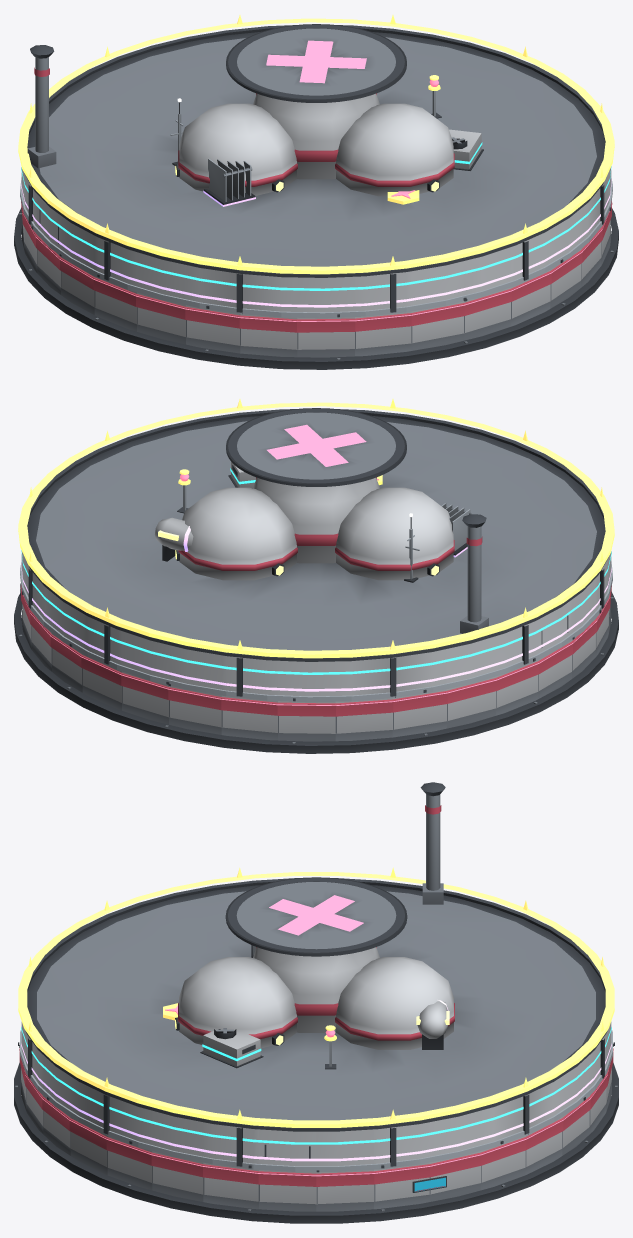
File: bio_lab_l.glb
3 views of the same model, one above another, from view 1: azimuth 30°, elevation 25°; view 2: azimuth 150°, elevation 25°; view 3: azimuth 270°, elevation 25° (orthographic).
Parts seen in each view (by area): view 1: Roof, Base, Wall_21, Wall_20, Wall_22, Wall_19, Wall_23, Upper_20, Upper_22, Upper_21, Wall_18, Upper_19 (+26 smaller); view 2: Roof, Base, Wall_10, Wall_11, Wall_09, Wall_12, Wall_08, Upper_11, Upper_09, Upper_10, Wall_13, L4 (+25 smaller); view 3: Roof, Base, Wall_31, Wall_00, Wall_30, Wall_29, Wall_01, Upper_00, Upper_31, Upper_01, Upper_30, Wall_02 (+21 smaller).
Part boxes in pixels (<box>): Roof: <box>27,24,605,274</box>; Base: <box>14,207,618,369</box>; Wall_21: <box>297,317,355,357</box>; Wall_20: <box>239,313,297,357</box>; Wall_22: <box>355,311,411,356</box>; Wall_19: <box>185,305,240,353</box>; Wall_23: <box>411,301,464,350</box>; Upper_20: <box>239,270,297,312</box>; Upper_22: <box>355,268,411,312</box>; Upper_21: <box>297,273,354,312</box>; Wall_18: <box>136,292,185,344</box>; Upper_19: <box>185,262,239,312</box>; Roof: <box>27,408,605,658</box>; Base: <box>14,591,618,753</box>; Wall_10: <box>277,701,335,741</box>; Wall_11: <box>335,698,393,741</box>; Wall_09: <box>221,695,277,740</box>; Wall_12: <box>392,689,447,737</box>; Wall_08: <box>168,683,221,734</box>; Upper_11: <box>335,654,393,696</box>; Upper_09: <box>221,652,277,696</box>; Upper_10: <box>278,657,335,696</box>; Wall_13: <box>447,676,496,728</box>; L4: <box>155,503,471,561</box>; Roof: <box>27,782,605,1128</box>; Base: <box>14,1062,618,1223</box>; Wall_31: <box>258,1170,316,1211</box>; Wall_00: <box>316,1170,374,1211</box>; Wall_30: <box>203,1162,258,1209</box>; Wall_29: <box>151,1151,203,1201</box>; Wall_01: <box>374,1162,429,1209</box>; Upper_00: <box>316,1126,374,1166</box>; Upper_31: <box>258,1126,316,1166</box>; Upper_01: <box>374,1119,429,1166</box>; Upper_30: <box>203,1119,258,1166</box>; Wall_02: <box>429,1151,481,1201</box>.
Bounding box in the file's own units: 17.16 × 6.5 × 17.16.
